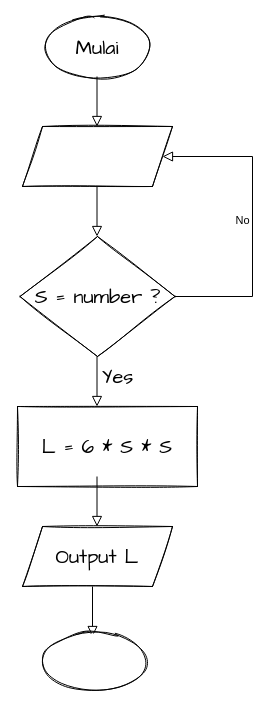
This 280x709 diagram has some shape labels left out. Each missing label, with the box of its shape:
Input nilai S: (22, 126, 172, 186)
Selesai: (38, 630, 150, 692)
